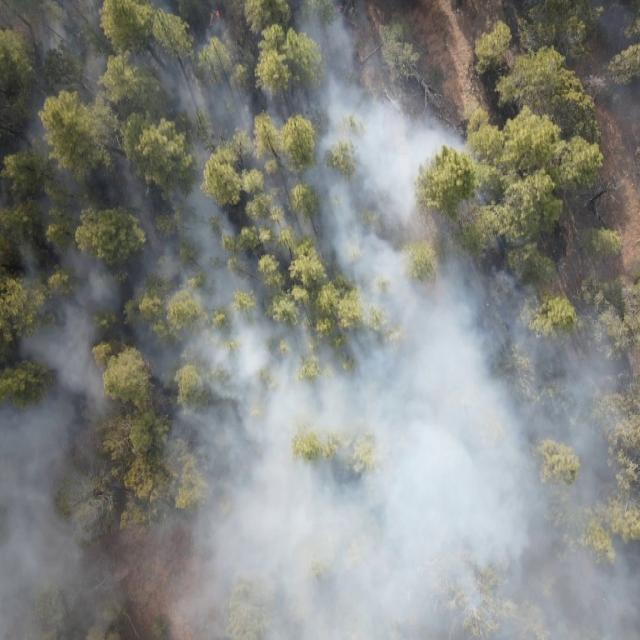fire: (206, 8, 223, 31)
smoke: (0, 0, 418, 640), (486, 254, 640, 640), (418, 114, 486, 640), (594, 0, 640, 140)
